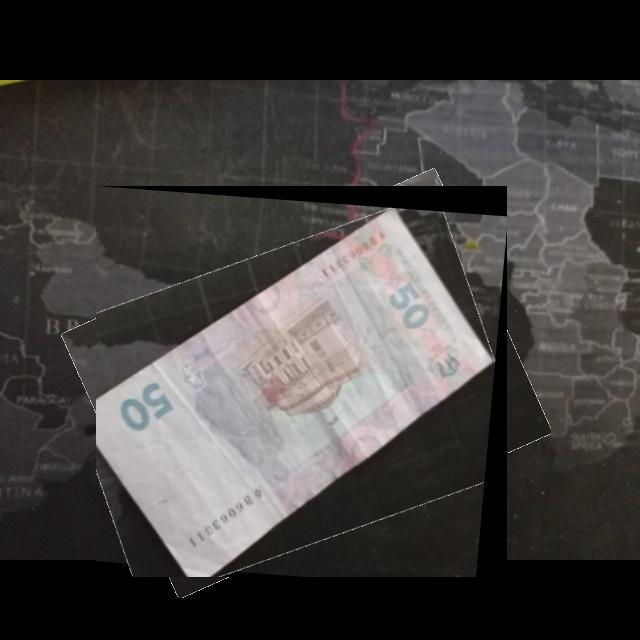50uah: (96, 205, 498, 578)
